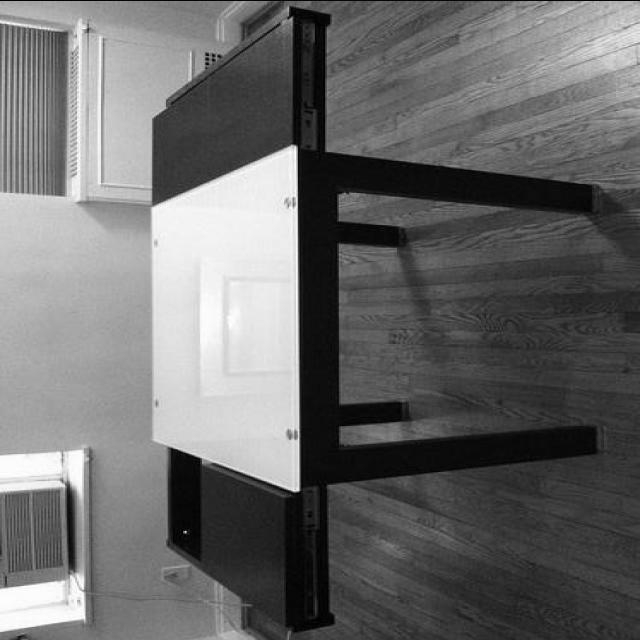table: (151, 6, 601, 628)
